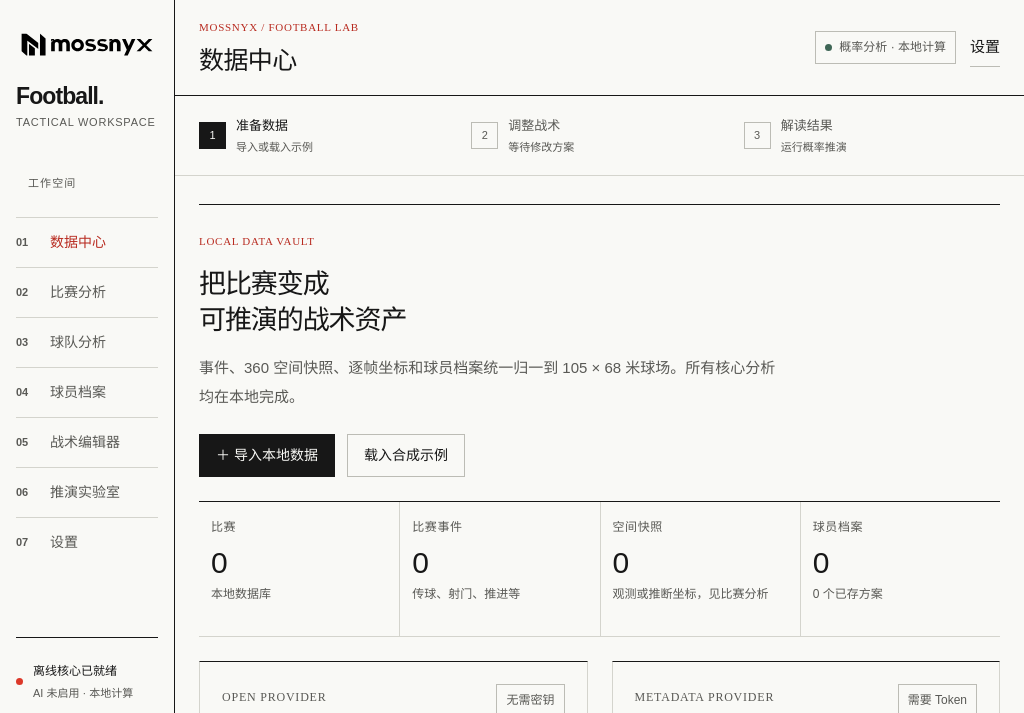
Test: 应用工作流回归 › 一次滑杆手势中的连续数值修改合并为一次撤销
The width and height of the screenshot is (1024, 713).
Click the button "05 战术编辑器": x=87, y=442 [16, 417, 158, 467]
(page scrolled)
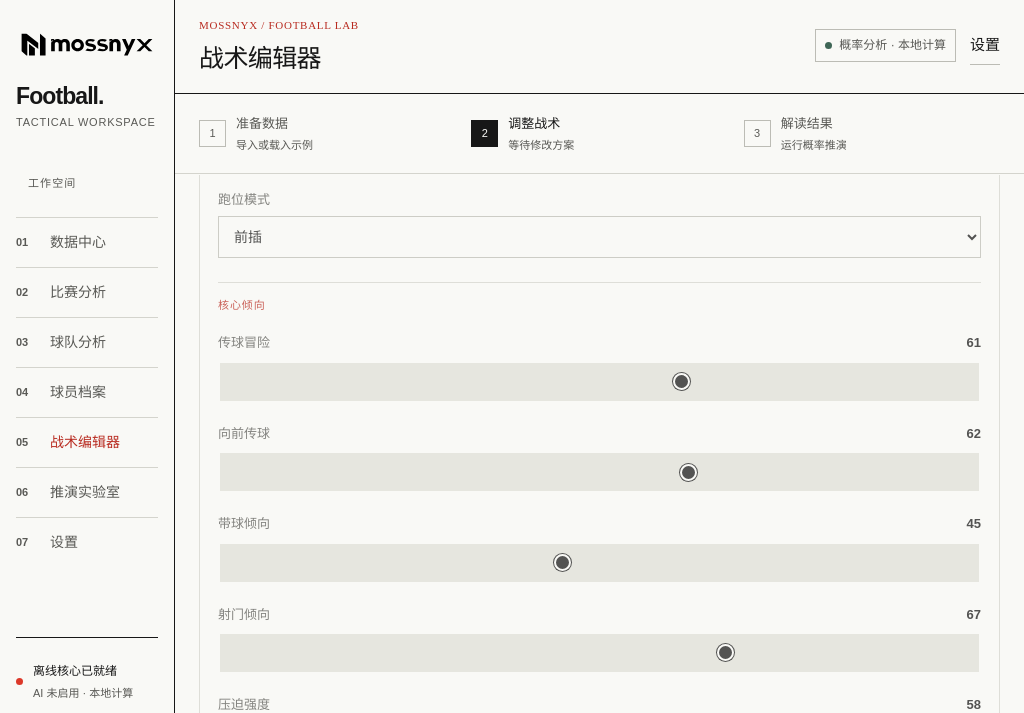
Press the mouse on the slider labelled "向前传球 62": x=600, y=472 [220, 453, 979, 491]
Set the slider labelled "向前传球 62" to "75": x=785, y=472 [220, 453, 979, 491]
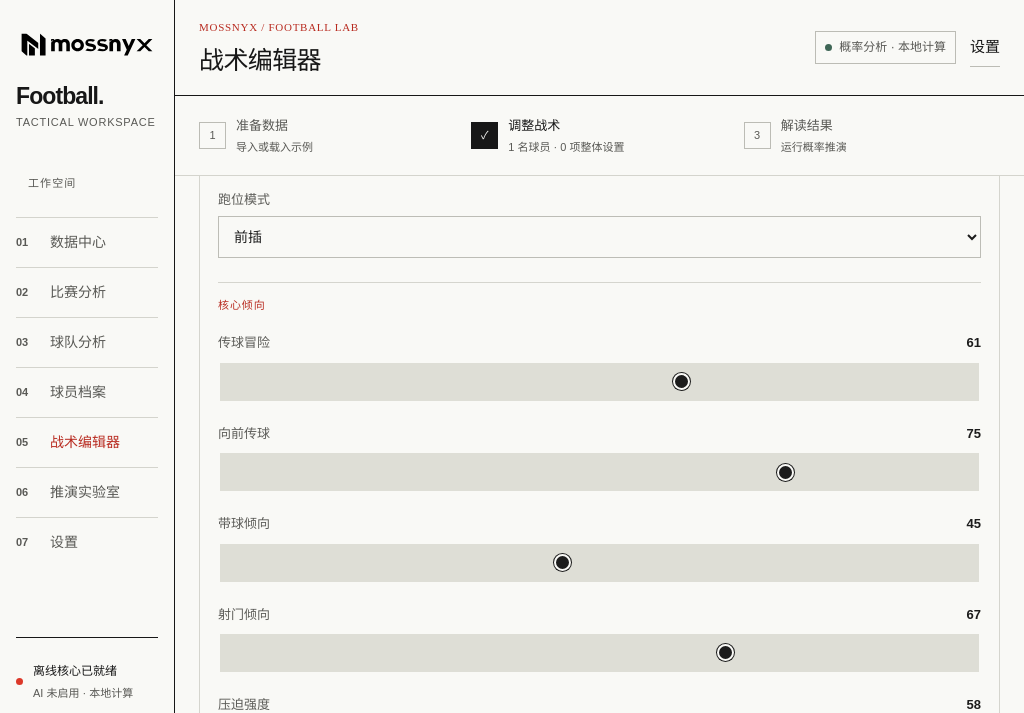
Set the slider labelled "向前传球 75" to "90": x=897, y=472 [220, 453, 979, 491]
(page scrolled)
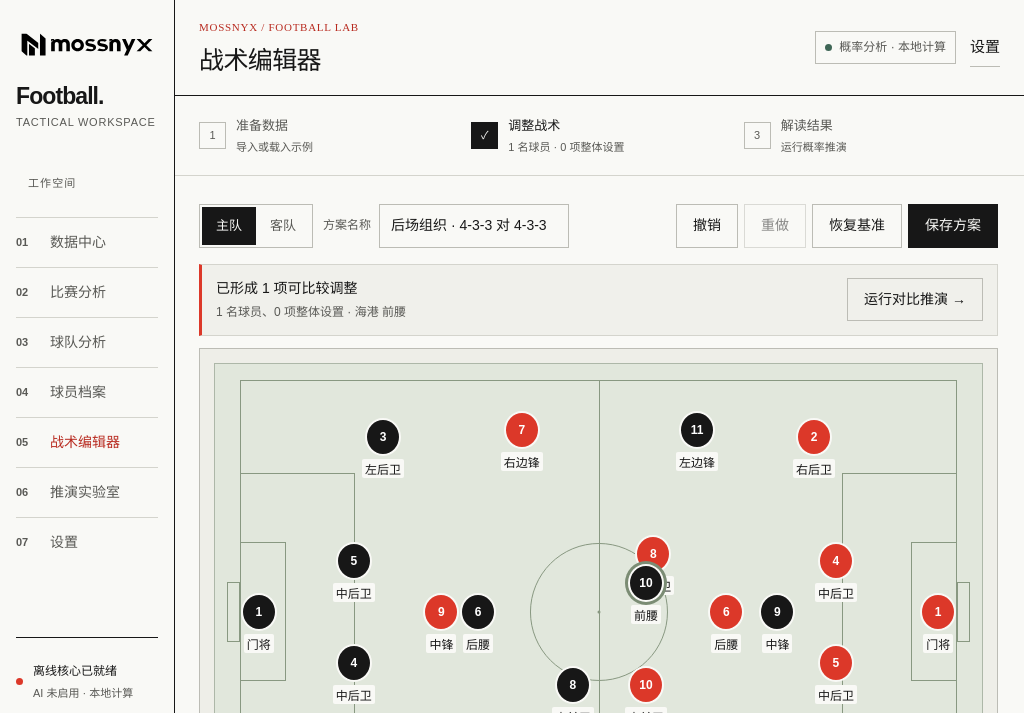
Click the button "撤销": x=707, y=226 [676, 204, 738, 248]
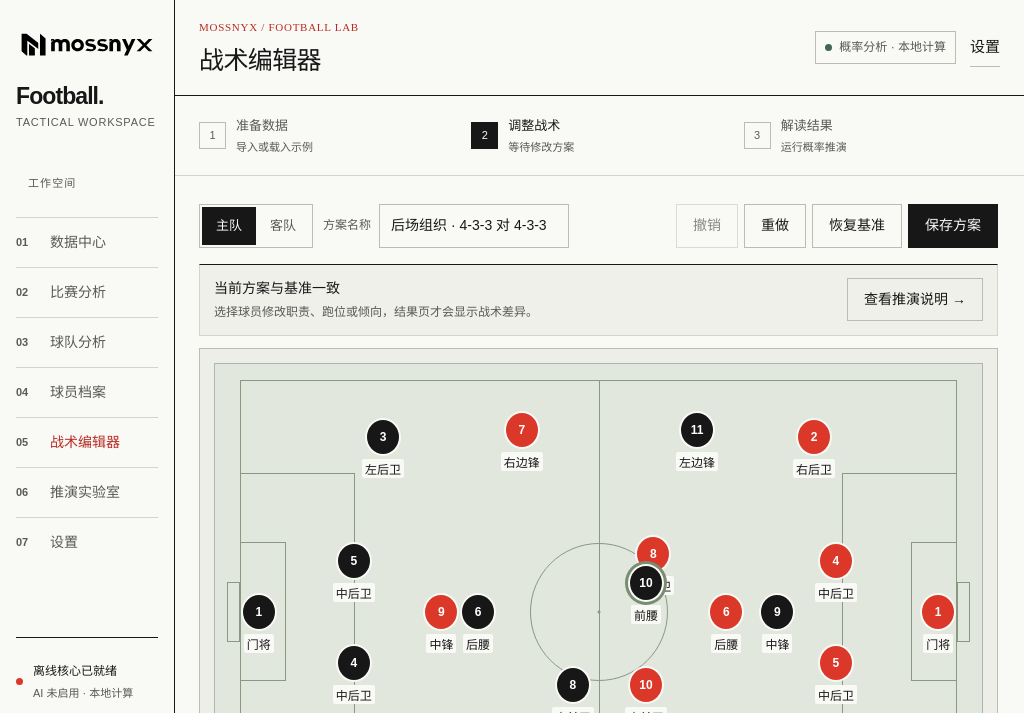
Now the button "撤销" is disabled, box [676, 204, 738, 248]
